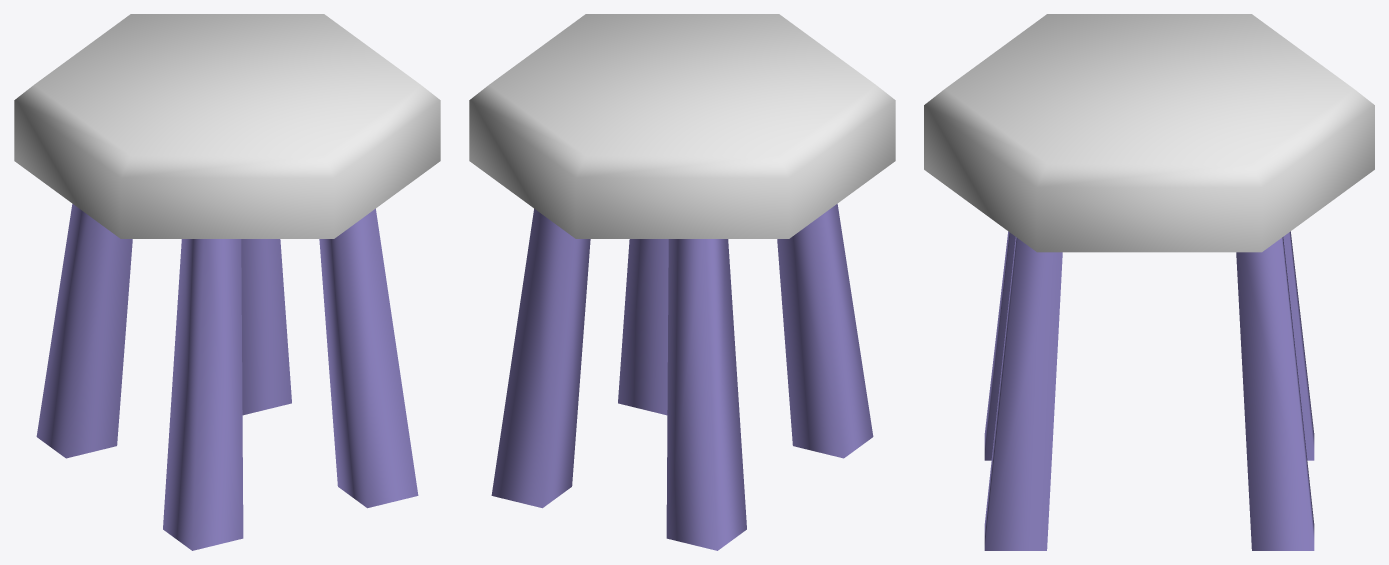
Rendered from simple_stool.glb.
The picture shows the model from 3 angles, left to right: view 1: azimuth 30°, elevation 25°; view 2: azimuth 150°, elevation 25°; view 3: azimuth 270°, elevation 25°; orthographic projection. The views are drawn at different scales.
Parts seen in each view (by area): view 1: Cylinder; view 2: Cylinder; view 3: Cylinder.
Boxes of the visible parts, x1,y1,x2,y2 form: Cylinder: (14, 14, 440, 550); Cylinder: (469, 14, 895, 550); Cylinder: (924, 14, 1374, 550).
Bounding box in the file's own units: 0.4382 × 0.5001 × 0.506.
